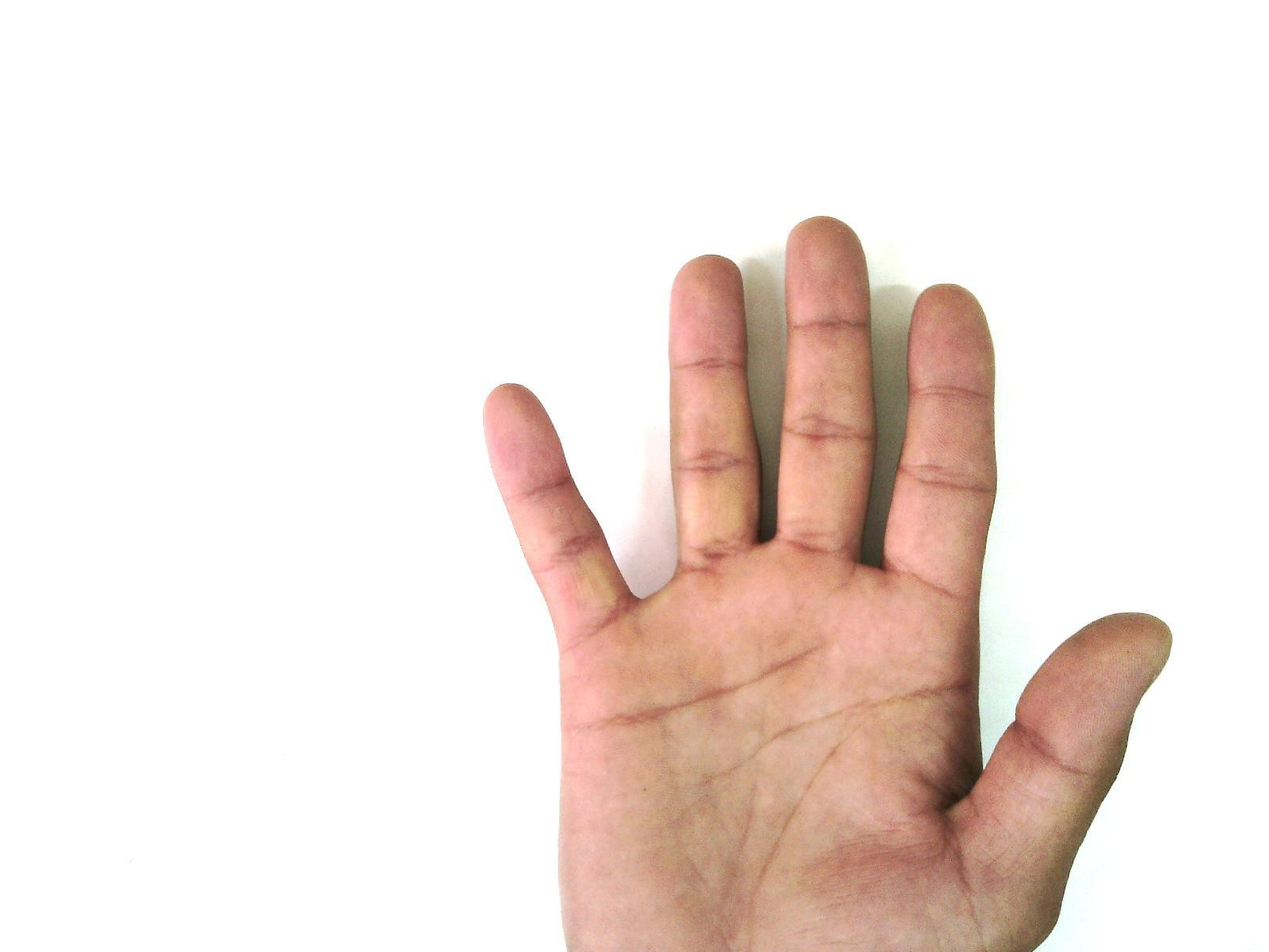open_palm: (479, 214, 1174, 951)
